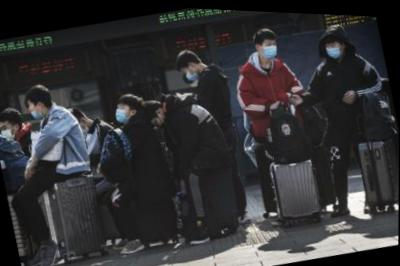OK: (261, 35, 281, 58), (325, 35, 344, 57), (115, 102, 133, 123), (1, 121, 16, 144), (183, 64, 201, 82)
WRONG: (28, 101, 43, 121)
